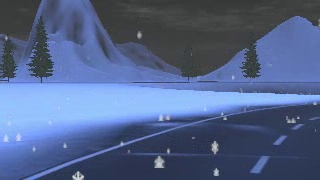Lane: (29, 103, 319, 179)
